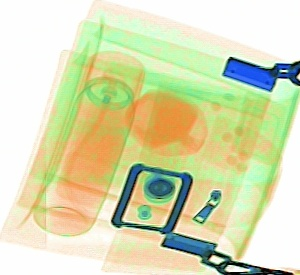pressure: (32, 49, 146, 237)
